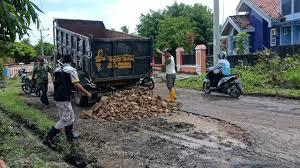Pothole: (151, 97, 261, 154)
